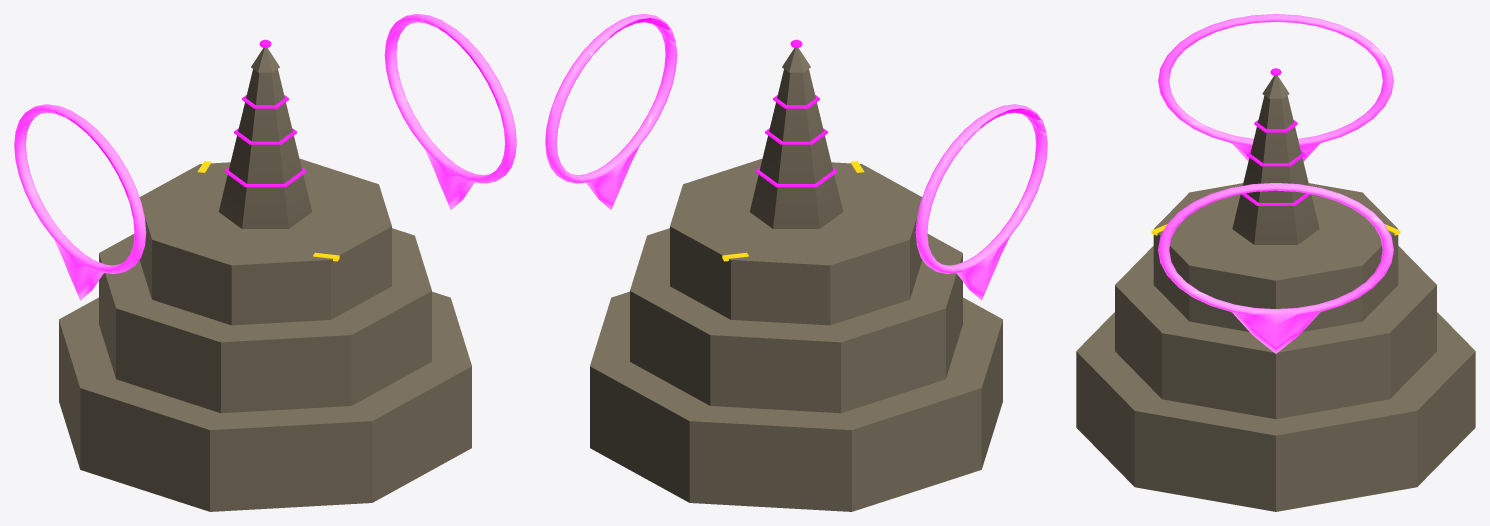
The model's file is solar_singularity_nexus.glb.
The picture shows the model from 3 angles, left to right: view 1: azimuth 30°, elevation 25°; view 2: azimuth 150°, elevation 25°; view 3: azimuth 270°, elevation 25°; orthographic projection. The views are drawn at different scales.
Visible parts, largest first — view 1: SolarSingularityNexus; view 2: SolarSingularityNexus; view 3: SolarSingularityNexus.
Part boxes in pixels (box(x1,y1,x2,y2)): SolarSingularityNexus: box(14, 14, 516, 511); SolarSingularityNexus: box(545, 14, 1047, 511); SolarSingularityNexus: box(1076, 14, 1475, 511).
Size of the model in its own units: 6.57 by 6.34 by 6.4.
3 materials, 3 textured.
